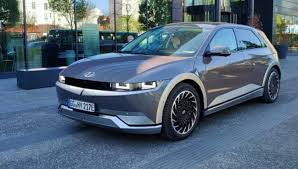Honda Ioniq: (49, 11, 287, 153)
